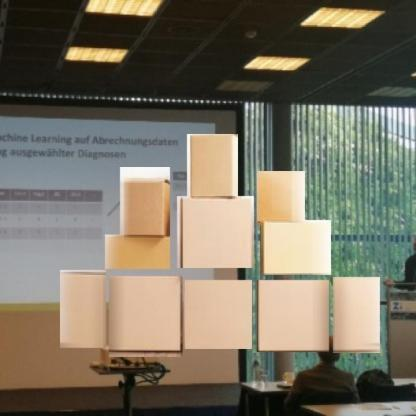-: (109, 275, 184, 359), (177, 195, 256, 270), (256, 280, 331, 354), (183, 279, 254, 351), (260, 220, 333, 277), (60, 269, 108, 350), (333, 276, 381, 355), (120, 166, 172, 236), (187, 134, 240, 200), (257, 171, 306, 226), (104, 234, 172, 270)
